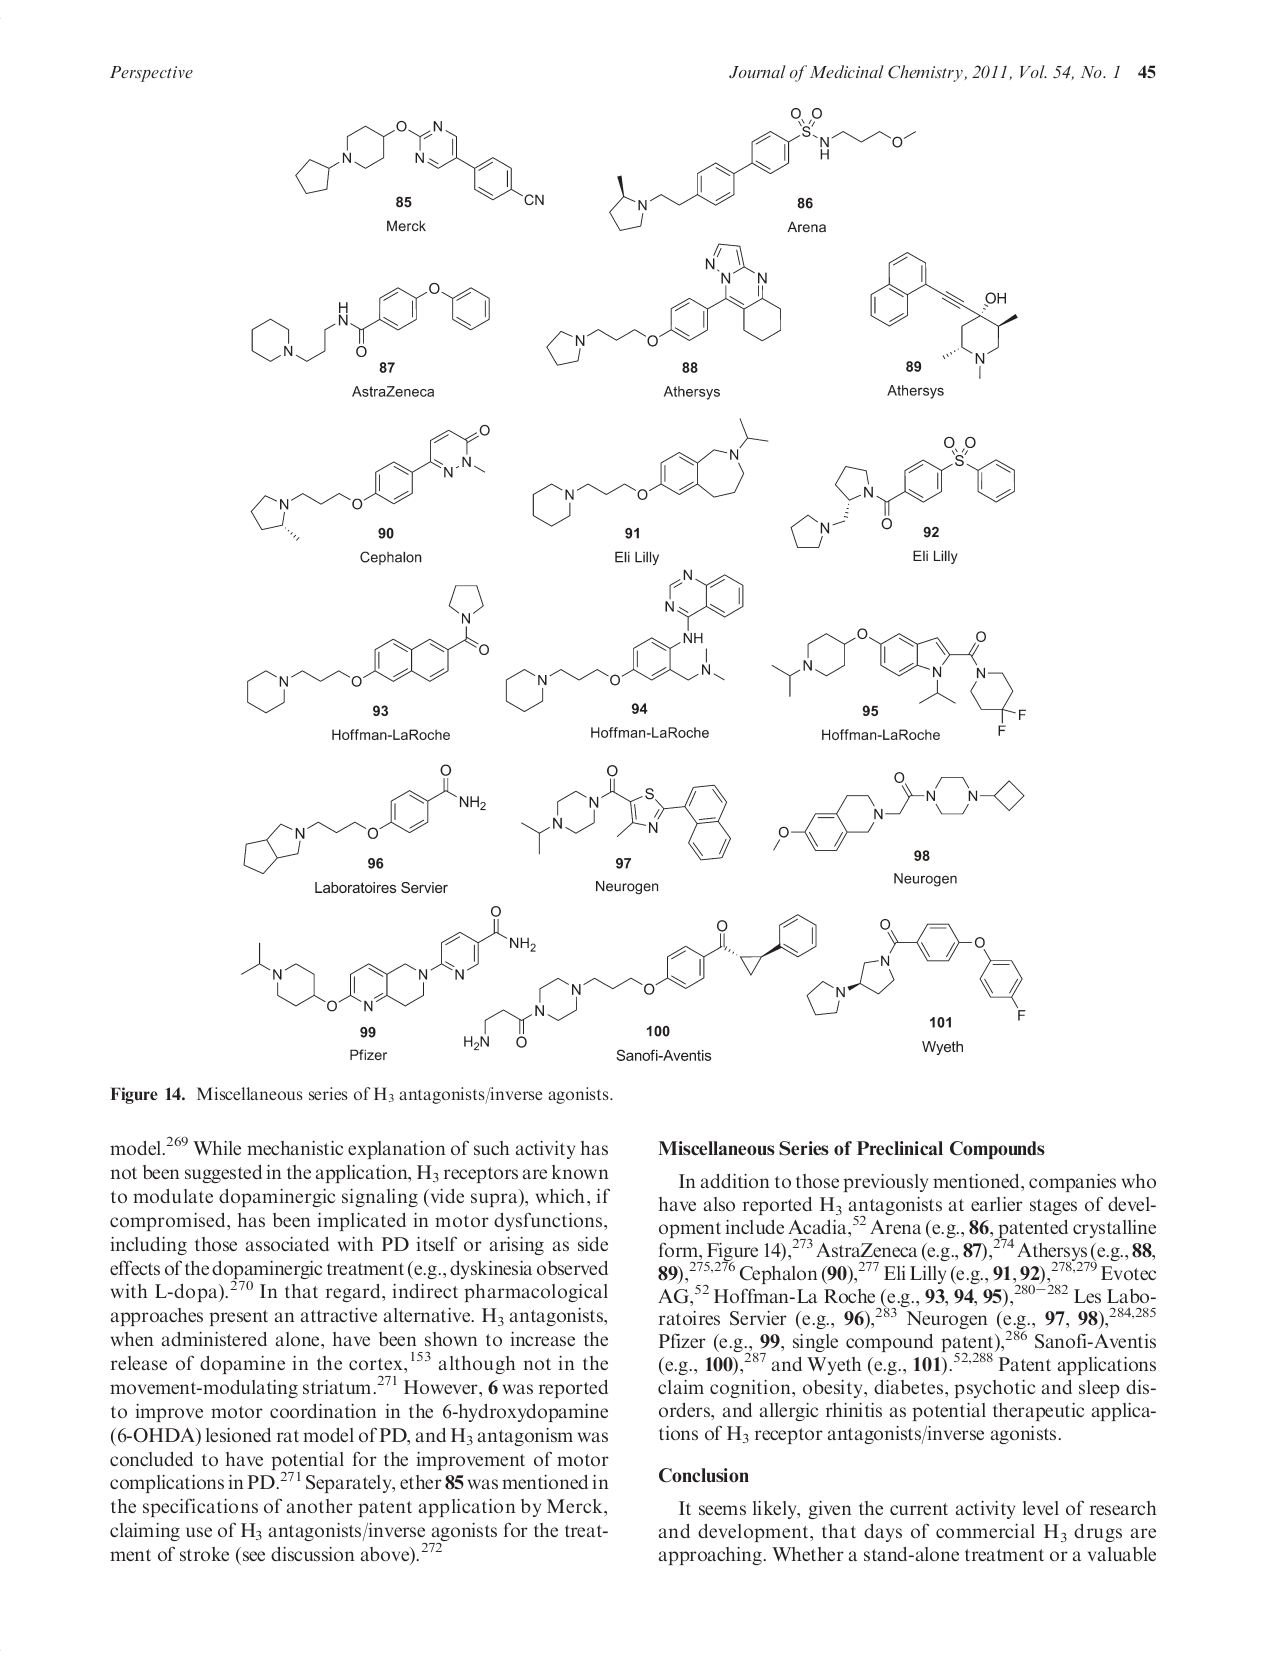exist_molecular: (460, 912, 821, 1051), (606, 105, 920, 231), (504, 568, 746, 714), (238, 903, 536, 1013), (243, 582, 489, 715), (543, 241, 783, 367), (247, 422, 493, 543), (769, 622, 1028, 737), (239, 762, 485, 875), (531, 416, 771, 527), (789, 435, 1019, 549), (291, 117, 545, 217), (803, 916, 1029, 1025), (519, 763, 733, 863), (864, 247, 1021, 383), (769, 770, 1027, 852), (247, 281, 496, 363)
